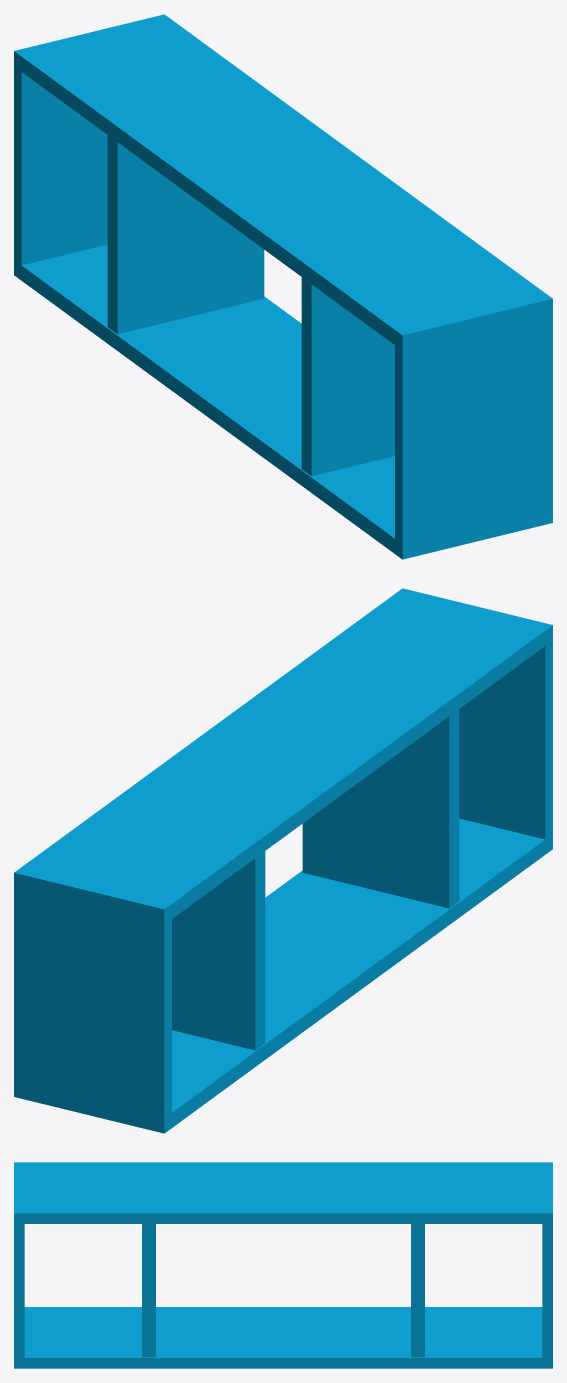
Rendered from Office_Cupboard_2C_Lod.fbx.
3 renders of one model, top to bottom at view 1: azimuth 30°, elevation 25°; view 2: azimuth 150°, elevation 25°; view 3: azimuth 270°, elevation 25°, orthographic. The views are drawn at different scales.
Parts seen in each view (by area): view 1: Office_Cupboard_2C_Lod; view 2: Office_Cupboard_2C_Lod; view 3: Office_Cupboard_2C_Lod.
Part boxes in pixels (x1,y1,x2,y2): Office_Cupboard_2C_Lod: [14, 14, 552, 559]; Office_Cupboard_2C_Lod: [14, 588, 552, 1133]; Office_Cupboard_2C_Lod: [14, 1162, 552, 1368].
Size of the model in its own units: 29.52 by 42.04 by 132.
